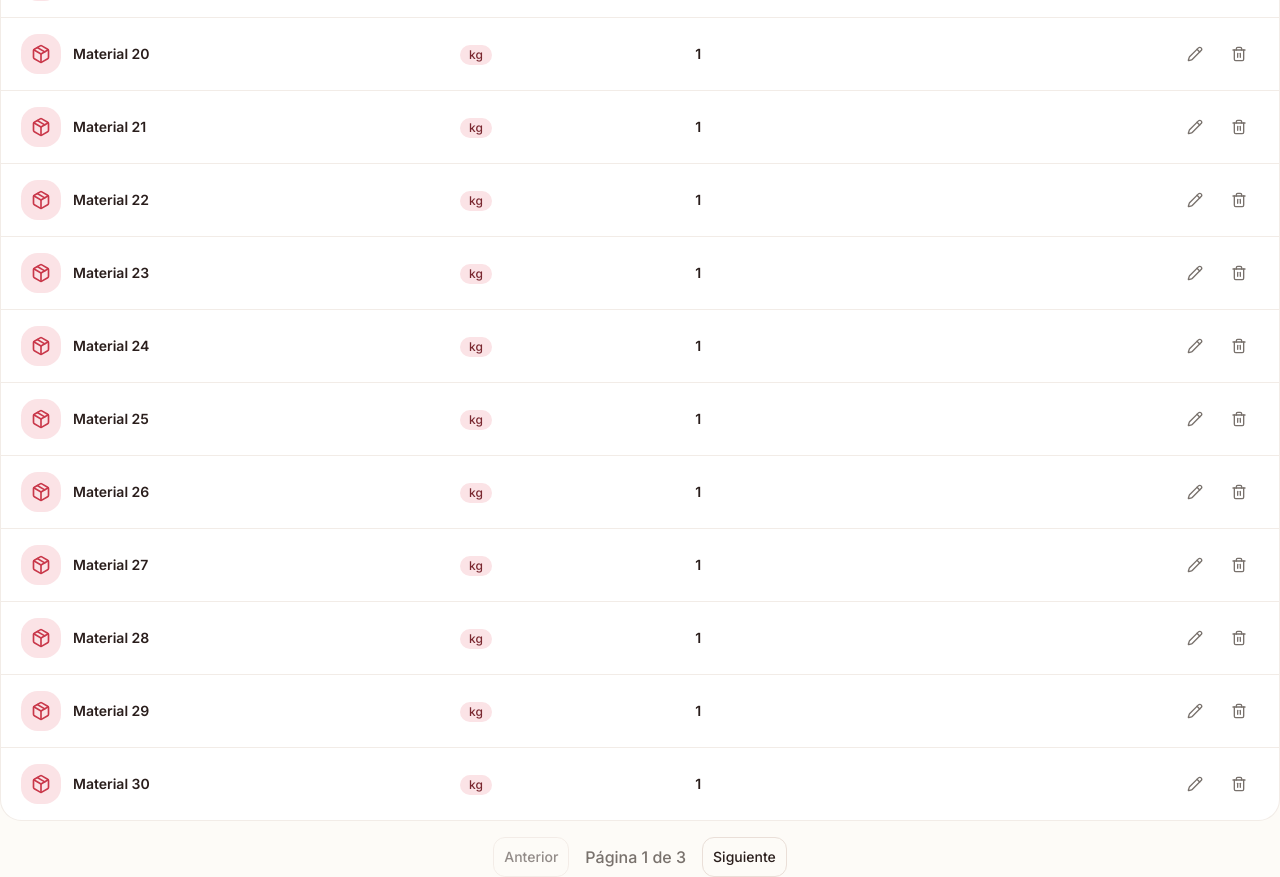
Test case: InventarioCliente (materiales) › pagina los materiales de 30 en 30
(page scrolled)
Expected: the text "Página 1 de 3" is shown, [585,845,686,869]
Expected: the button with aria-label "página anterior" is disabled, [493,837,569,876]
Click the button with aria-label "página siguiente": (744, 857) [702,837,787,876]
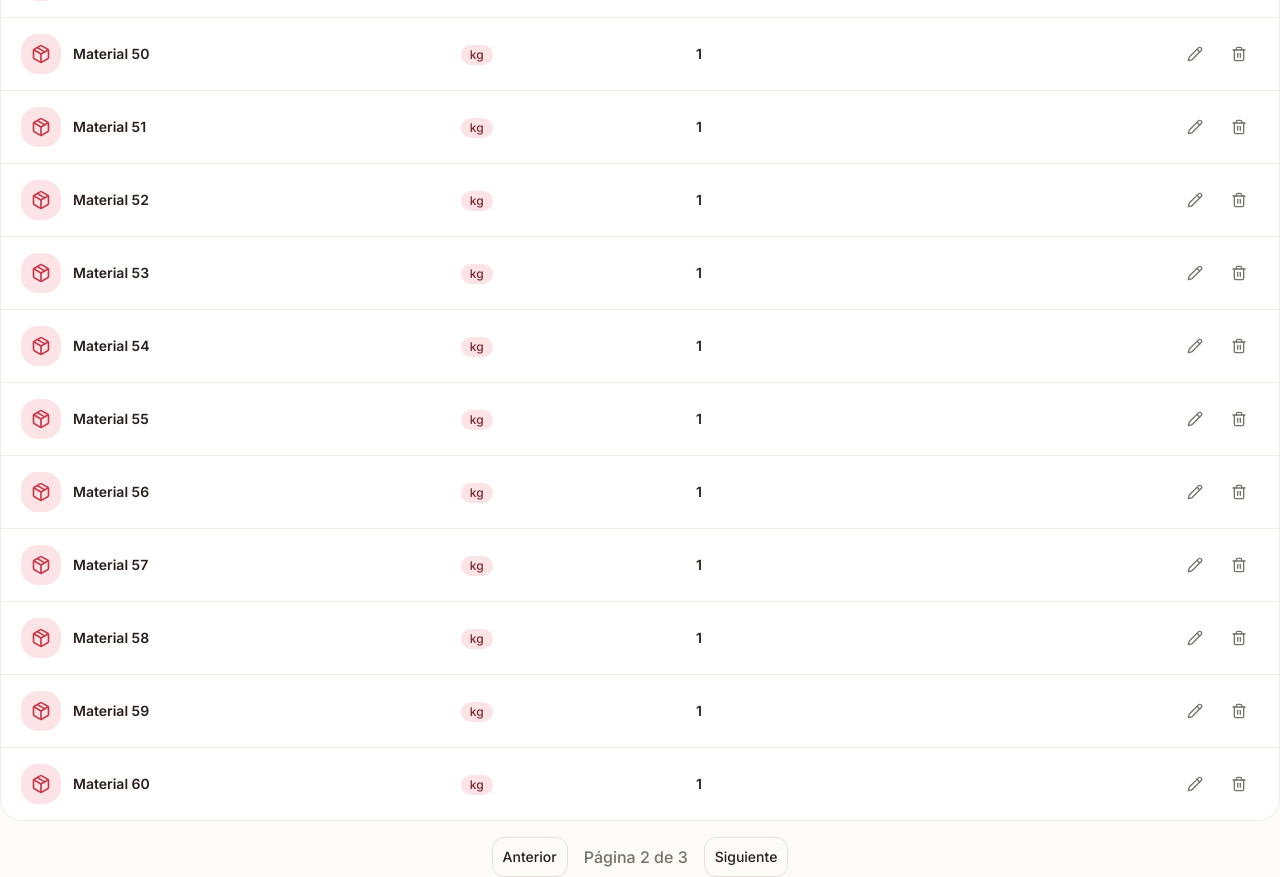
Now the text "Página 2 de 3" is shown, box [584,845,688,869]
